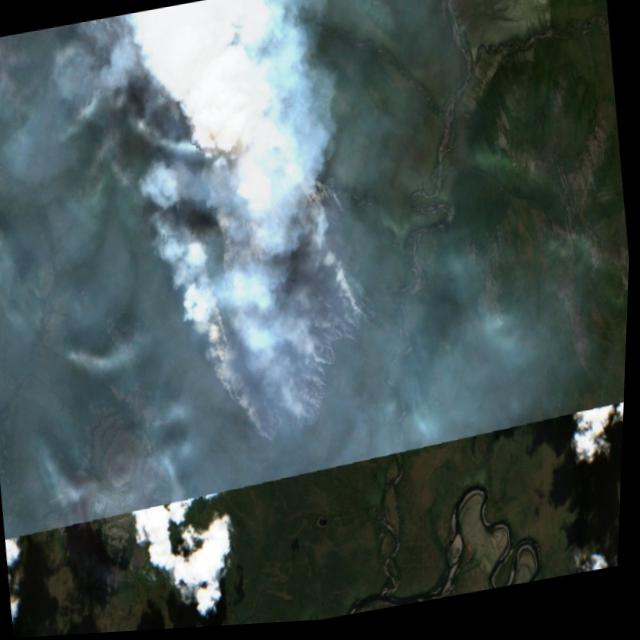fire: (178, 166, 401, 468)
